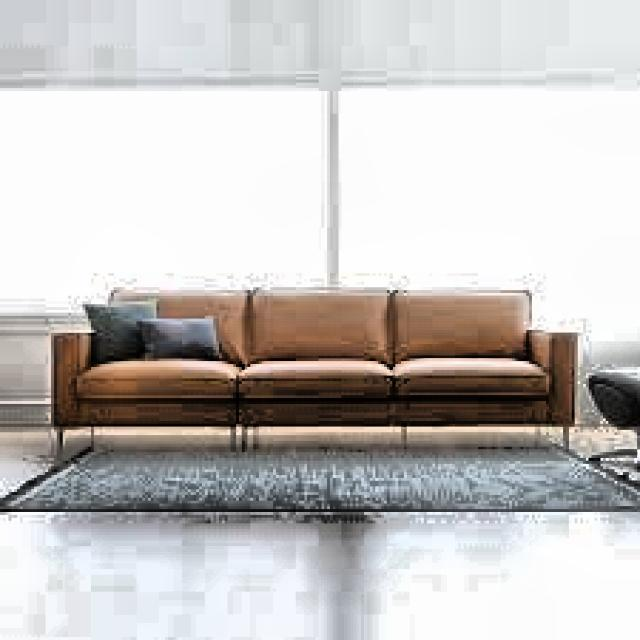sofa: (43, 284, 580, 461)
